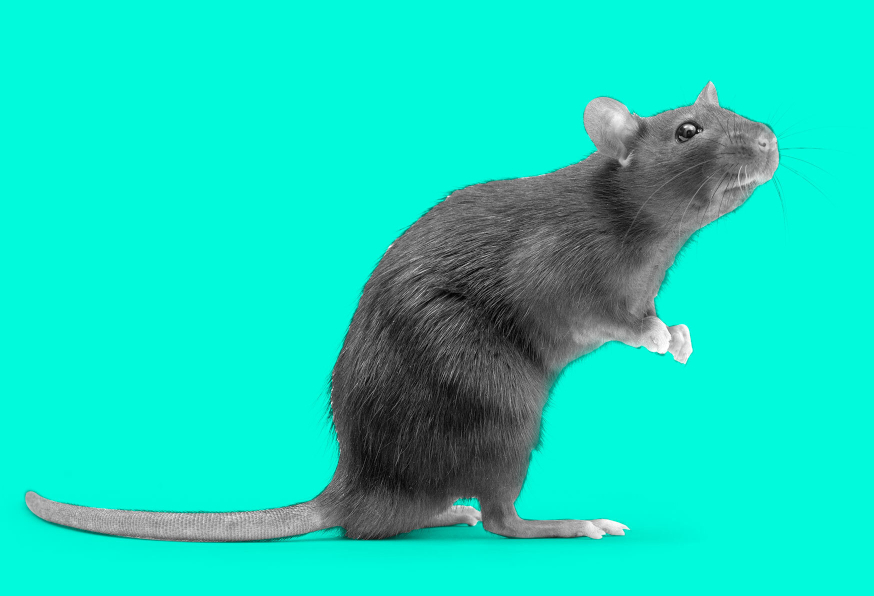rat: (12, 70, 808, 565)
